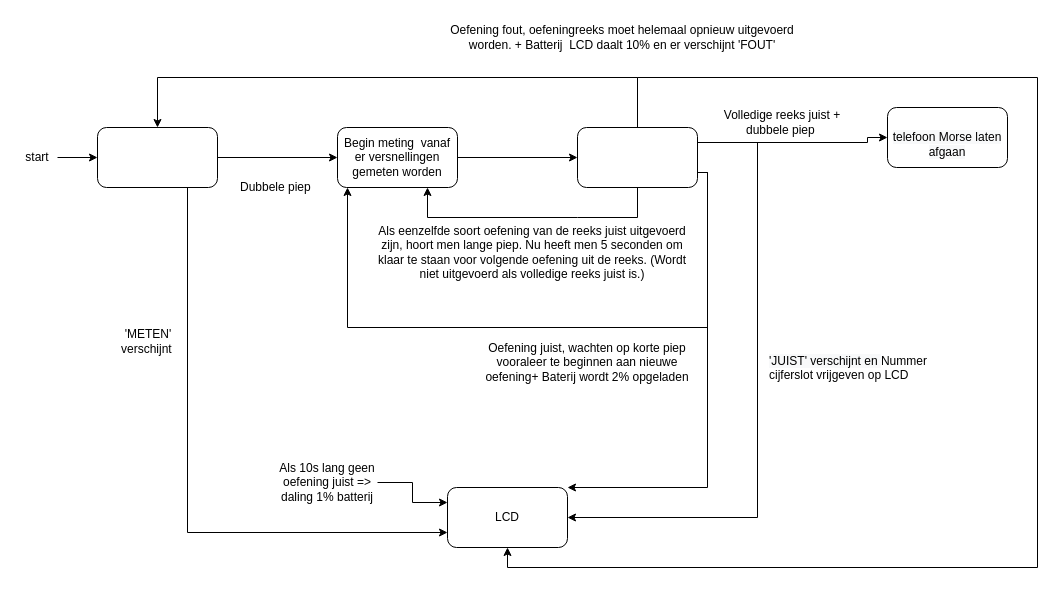
Some shapes in this 1063 by 593 pixel diagram are drawn without their labels. The box of each missing label's shape, as (x1, y1, x2, y2) in pixels:
Beoordeling oefening: (576, 126, 698, 188)
Knop: (96, 126, 218, 188)
